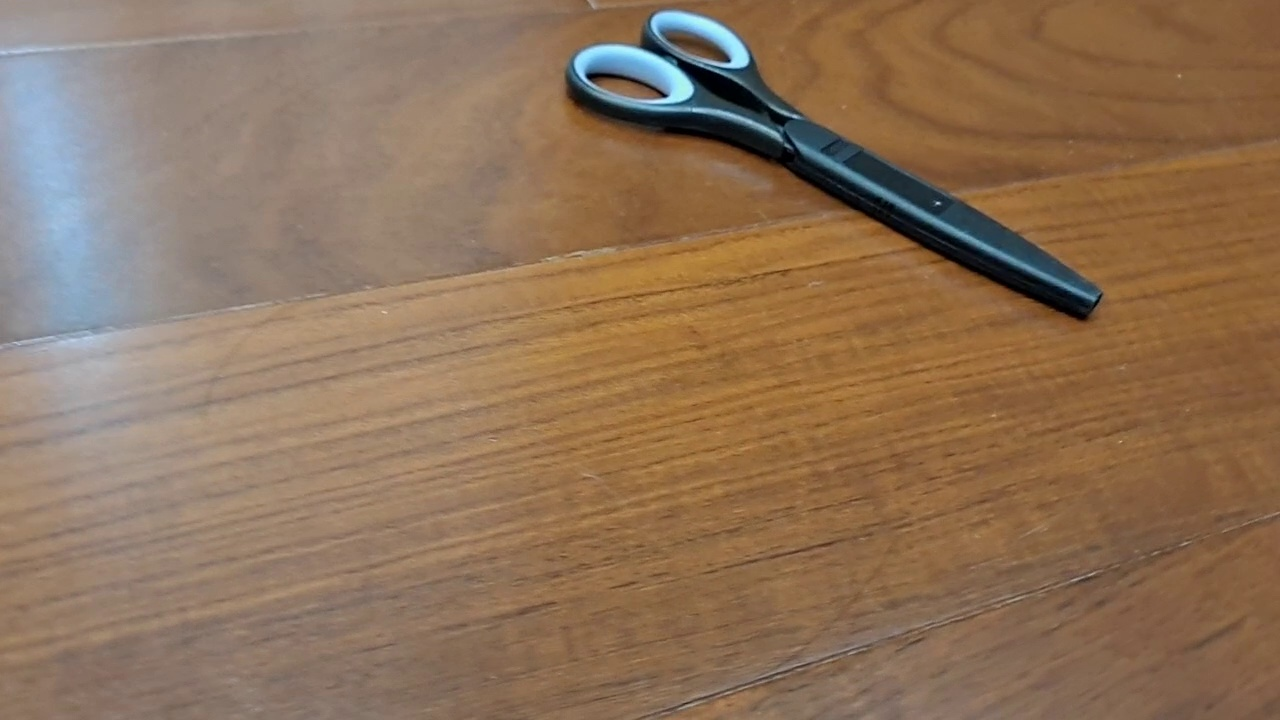scissors: (564, 7, 1105, 324)
